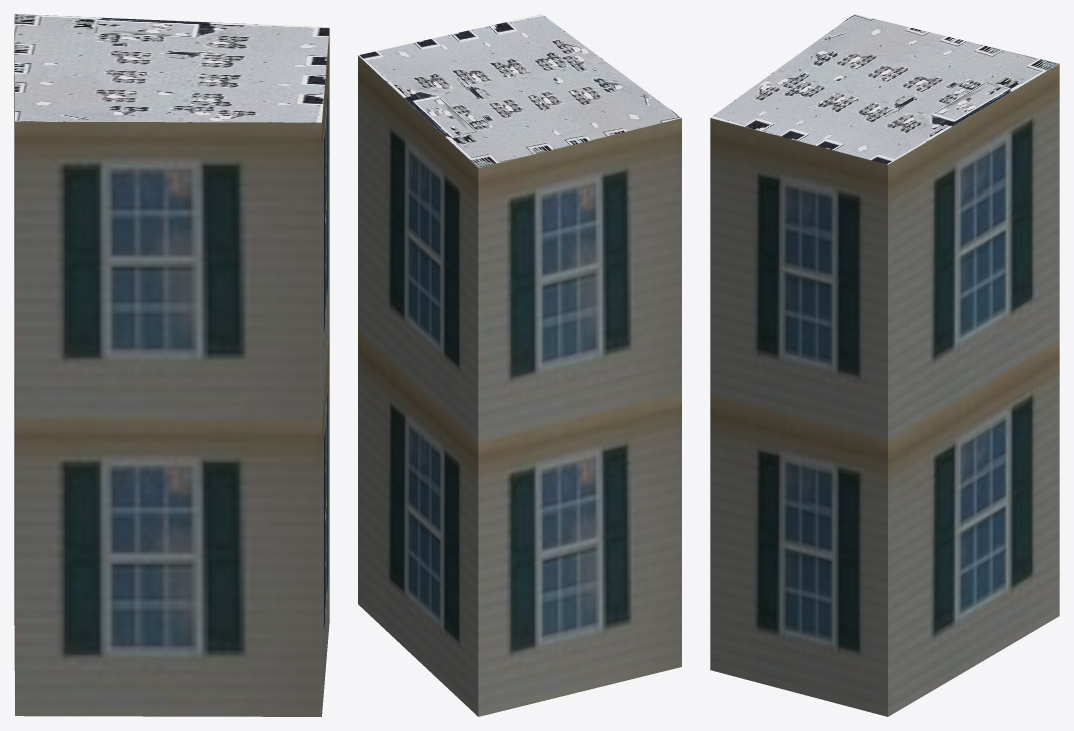
File: ResTex__692.fbx
3 renders of one model, left to right at view 1: azimuth 30°, elevation 25°; view 2: azimuth 150°, elevation 25°; view 3: azimuth 270°, elevation 25°, orthographic. The views are drawn at different scales.
Visible parts, largest first — view 1: CityEngineMaterial_7_m, CityEngineMaterial_15_m; view 2: CityEngineMaterial_7_m, CityEngineMaterial_15_m; view 3: CityEngineMaterial_7_m, CityEngineMaterial_15_m.
Boxes of the visible parts, box(x1,y1,x2,y2) form: CityEngineMaterial_7_m: box(14, 29, 329, 716); CityEngineMaterial_15_m: box(14, 14, 329, 122); CityEngineMaterial_7_m: box(358, 55, 681, 716); CityEngineMaterial_15_m: box(358, 14, 681, 167); CityEngineMaterial_7_m: box(710, 64, 1059, 716); CityEngineMaterial_15_m: box(710, 14, 1059, 164).
Size of the model in its own units: 3.51 by 6 by 3.44.
2 materials, 2 textured.
